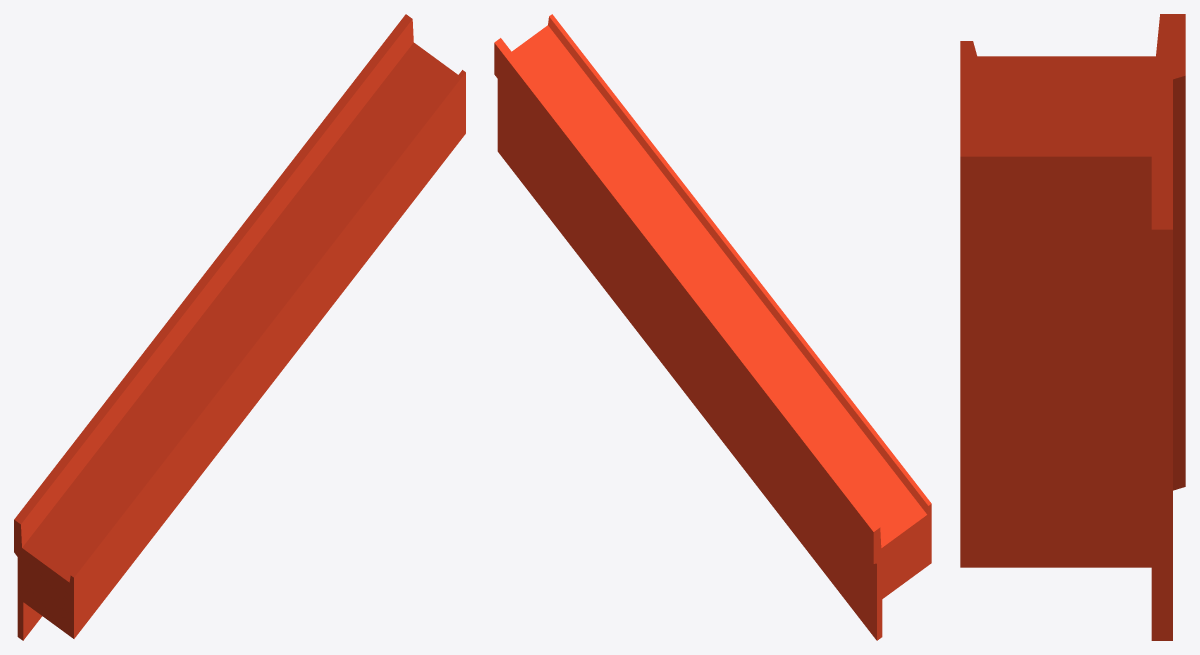
File: roof-metal-regular-2m-front.fbx
3 views of the same model, side by side, from view 1: azimuth 30°, elevation 25°; view 2: azimuth 150°, elevation 25°; view 3: azimuth 270°, elevation 25° (orthographic). The views are drawn at different scales.
Parts seen in each view (by area): view 1: roof-metal-regular-2m-front; view 2: roof-metal-regular-2m-front; view 3: roof-metal-regular-2m-front.
Part boxes in pixels (x1,y1,x2,y2): roof-metal-regular-2m-front: [14, 14, 465, 640]; roof-metal-regular-2m-front: [494, 14, 931, 640]; roof-metal-regular-2m-front: [960, 14, 1185, 640].
Bounding box in the file's own units: 2 × 2.56 × 0.53.
